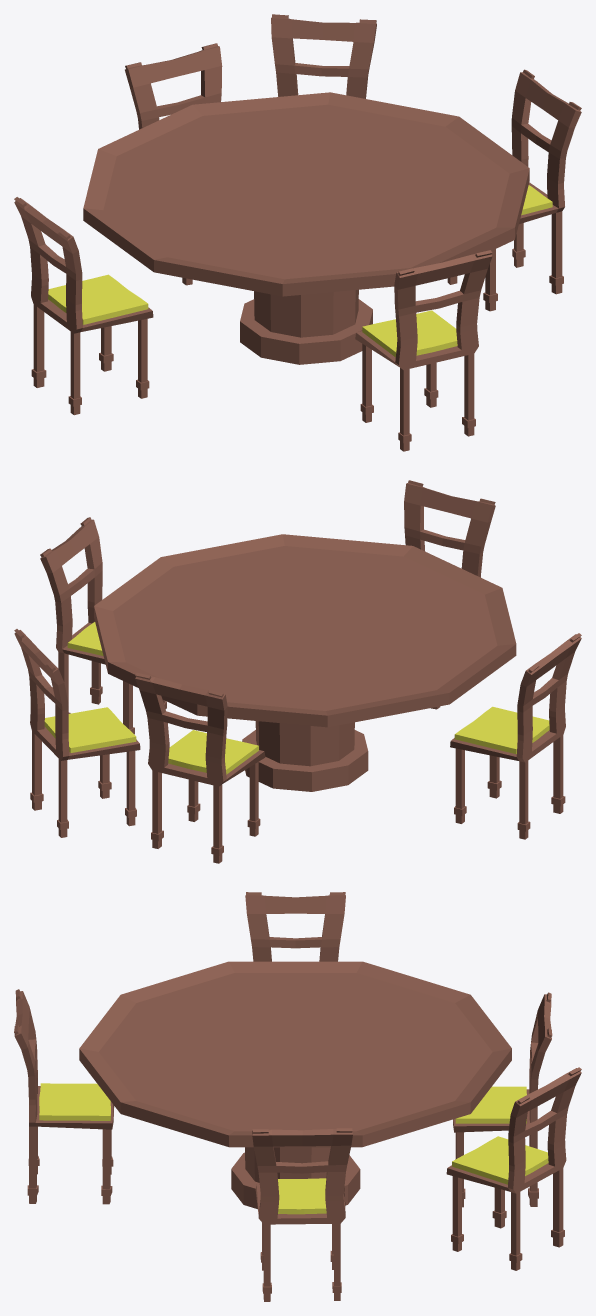
The model's file is table2.fbx.
3 views of the same model, one above another, from view 1: azimuth 30°, elevation 25°; view 2: azimuth 150°, elevation 25°; view 3: azimuth 270°, elevation 25° (orthographic). The views are drawn at different scales.
Visible parts, largest first — view 1: table.002, chair.005, chair.004, chair.006, chair.008, chair.007; view 2: table.002, chair.007, chair.004, chair.008, chair.006, chair.005; view 3: table.002, chair.008, chair.006, chair.005, chair.004, chair.007.
Boxes of the visible parts, bbox=[...] form: table.002: bbox=[83, 92, 529, 364]; chair.005: bbox=[355, 250, 492, 451]; chair.004: bbox=[14, 197, 153, 415]; chair.006: bbox=[447, 69, 581, 311]; chair.008: bbox=[271, 14, 376, 98]; chair.007: bbox=[125, 43, 222, 285]; table.002: bbox=[94, 534, 516, 791]; chair.007: bbox=[135, 672, 265, 863]; chair.004: bbox=[450, 633, 581, 839]; chair.008: bbox=[14, 629, 140, 837]; chair.006: bbox=[40, 517, 166, 734]; chair.005: bbox=[404, 480, 495, 709]; table.002: bbox=[79, 961, 511, 1209]; chair.008: bbox=[446, 1067, 581, 1270]; chair.006: bbox=[252, 1128, 352, 1301]; chair.005: bbox=[14, 989, 114, 1204]; chair.004: bbox=[245, 892, 345, 961]; chair.007: bbox=[453, 992, 552, 1207].
Size of the model in its own units: 2.63 by 0.9045 by 2.62.
